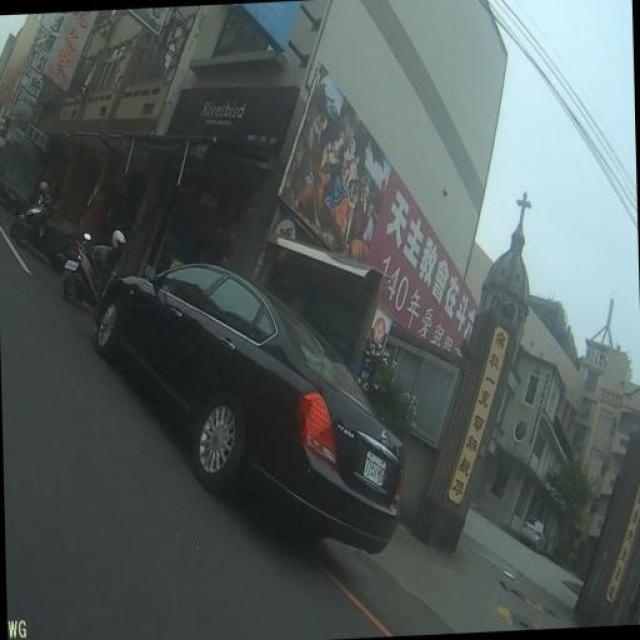Legalparking: (82, 214, 461, 556)
